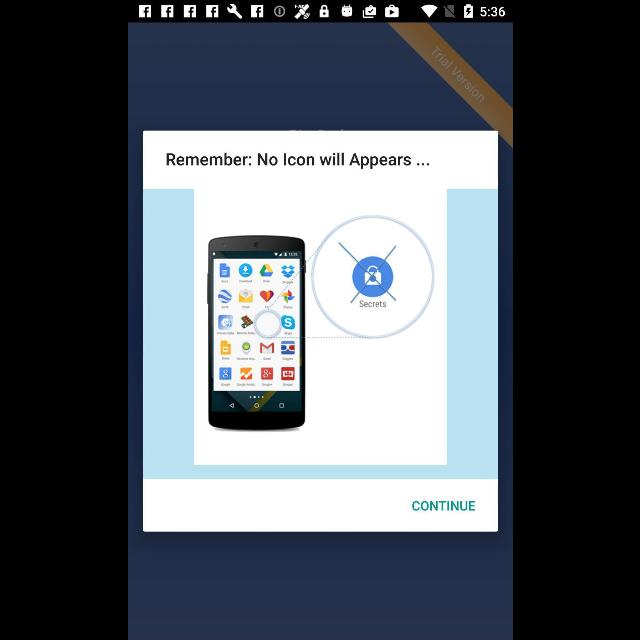image: (206, 215, 434, 432)
panel: (143, 131, 497, 531)
text: (165, 153, 428, 170), (412, 501, 474, 511)
uppertaskbar: (128, 1, 512, 23)
